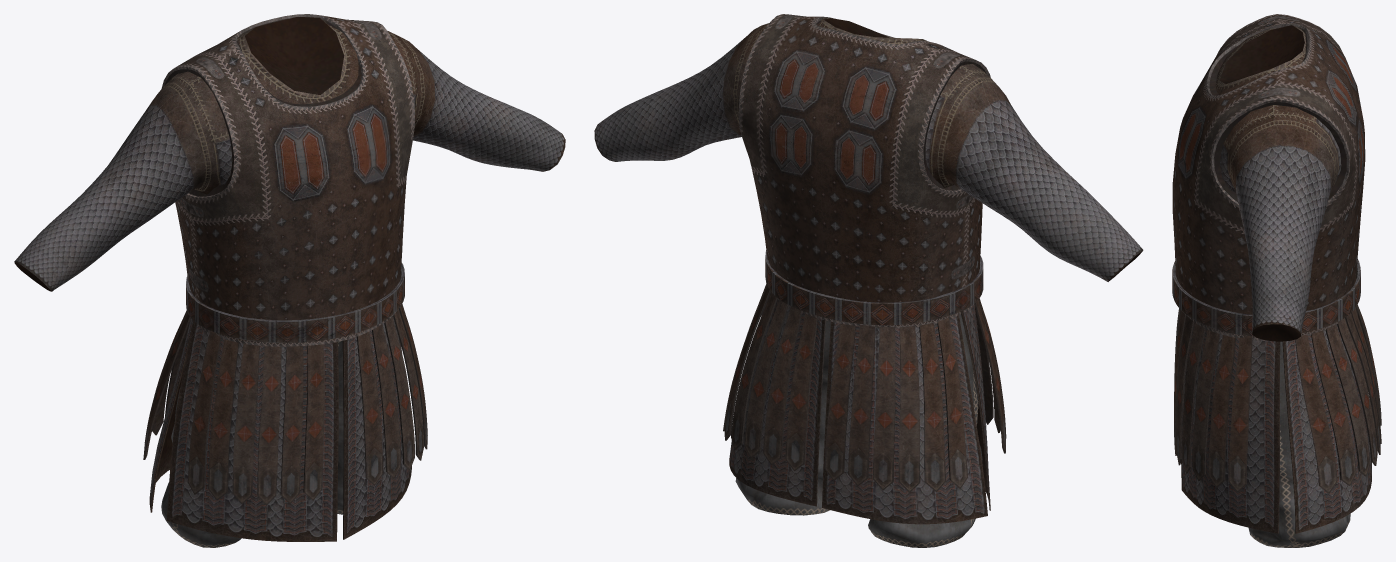
The model's file is sk_dwarf_iron_chest_heavy_d.fbx.
3 renders of one model, left to right at view 1: azimuth 30°, elevation 25°; view 2: azimuth 150°, elevation 25°; view 3: azimuth 270°, elevation 25°, orthographic. The views are drawn at different scales.
Parts seen in each view (by area): view 1: sk_dwarf_iron_chest_heavy_d.1, sk_dwarf_iron_chest_heavy_d.2, sk_dwarf_iron_chest_heavy_d.0; view 2: sk_dwarf_iron_chest_heavy_d.1, sk_dwarf_iron_chest_heavy_d.2, sk_dwarf_iron_chest_heavy_d.0; view 3: sk_dwarf_iron_chest_heavy_d.1, sk_dwarf_iron_chest_heavy_d.2, sk_dwarf_iron_chest_heavy_d.0.
Boxes of the visible parts, left/top/right/bottom form: sk_dwarf_iron_chest_heavy_d.1: left=143, top=14, right=427, bottom=505; sk_dwarf_iron_chest_heavy_d.2: left=14, top=17, right=565, bottom=541; sk_dwarf_iron_chest_heavy_d.0: left=161, top=341, right=343, bottom=547; sk_dwarf_iron_chest_heavy_d.1: left=723, top=14, right=1006, bottom=492; sk_dwarf_iron_chest_heavy_d.2: left=594, top=18, right=1143, bottom=524; sk_dwarf_iron_chest_heavy_d.0: left=735, top=315, right=982, bottom=547; sk_dwarf_iron_chest_heavy_d.1: left=1172, top=14, right=1381, bottom=493; sk_dwarf_iron_chest_heavy_d.2: left=1180, top=25, right=1371, bottom=533; sk_dwarf_iron_chest_heavy_d.0: left=1248, top=341, right=1350, bottom=547.
Size of the model in its own units: 1.17 by 0.4144 by 1.01.
